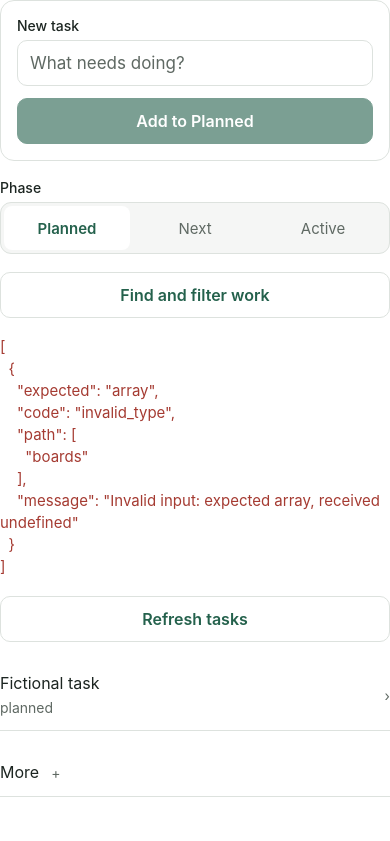
Scenario: edits a task with its revision and retains notes after server rejection
This screenshot has width=390, height=841.
Click the button "Fictional task planned ›" at [50, 683], box [0,660,389,731]
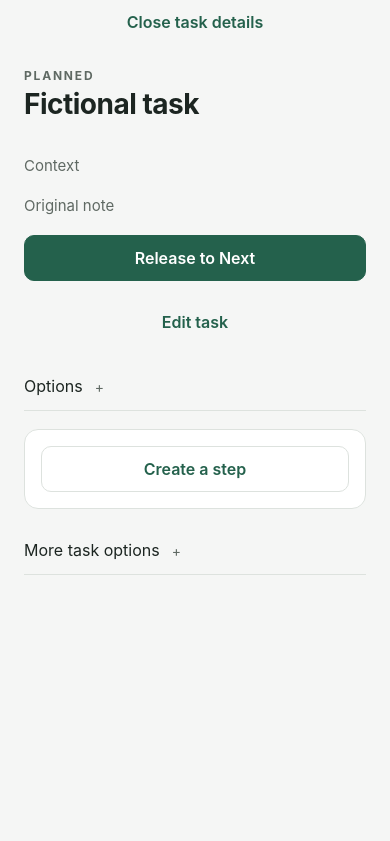
Click the button "Edit task" at [195, 322], box [24,299,366,345]
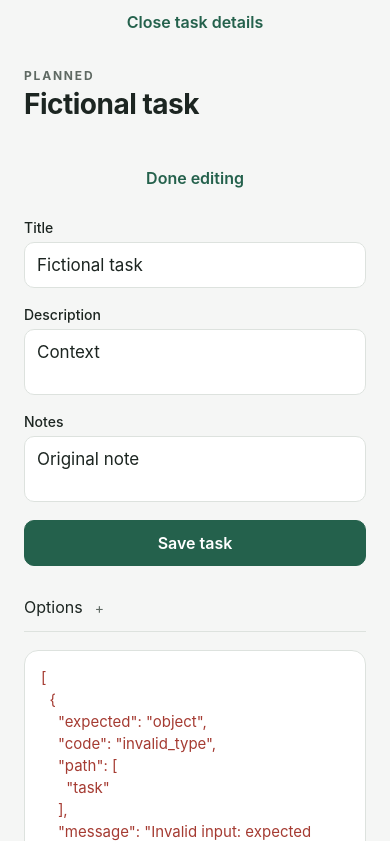
Replace the text in the text box named "Notes" with "Keep this draft" at [195, 469], box [24,436,366,502]
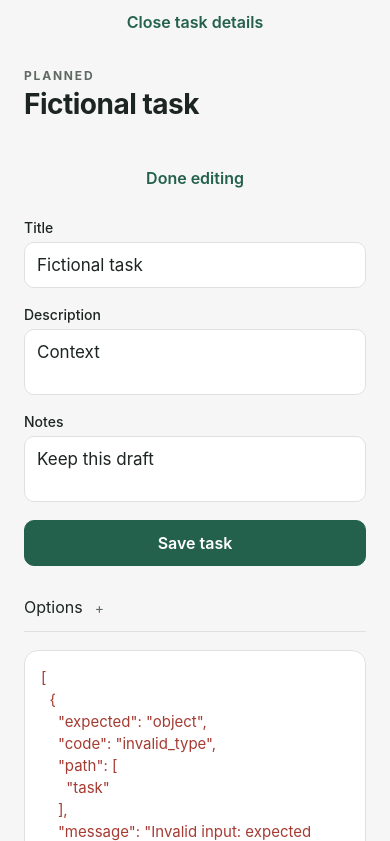
Click the button "Save task" at [195, 543], box [24,520,366,566]
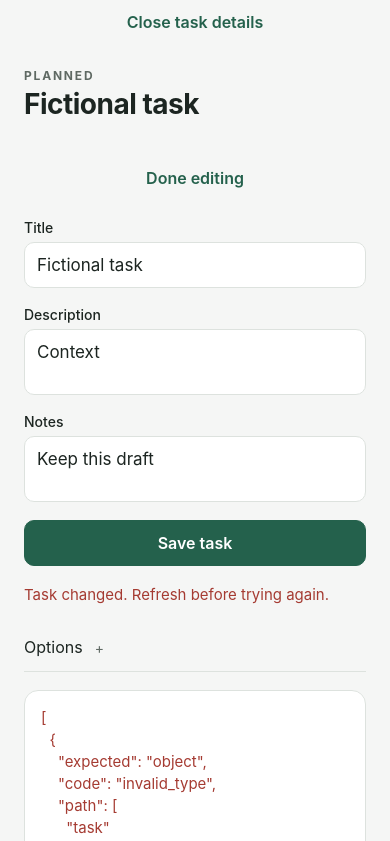
Check: the text "Task changed. Refresh before trying again." is shown, box [24,584,366,606]
